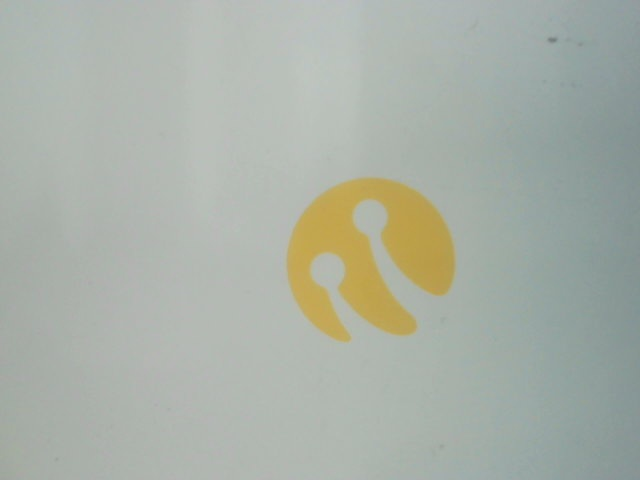AV_H3600Yellow: (274, 166, 469, 336)
